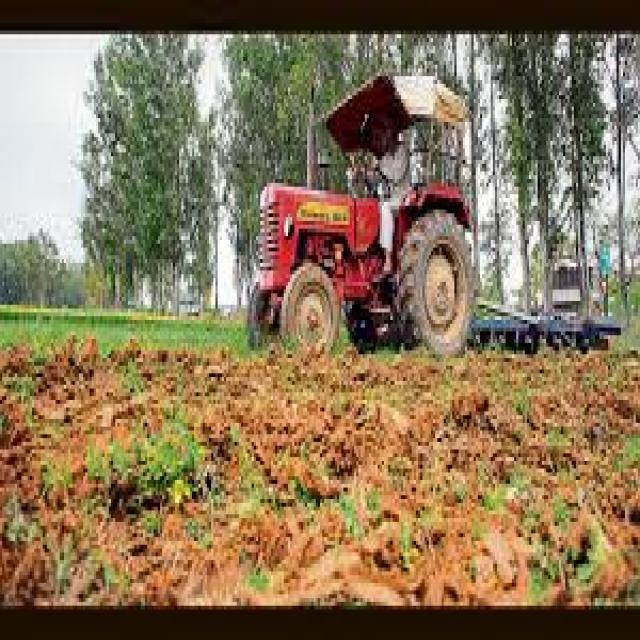person: (378, 122, 407, 270)
tractor: (247, 183, 469, 354)
